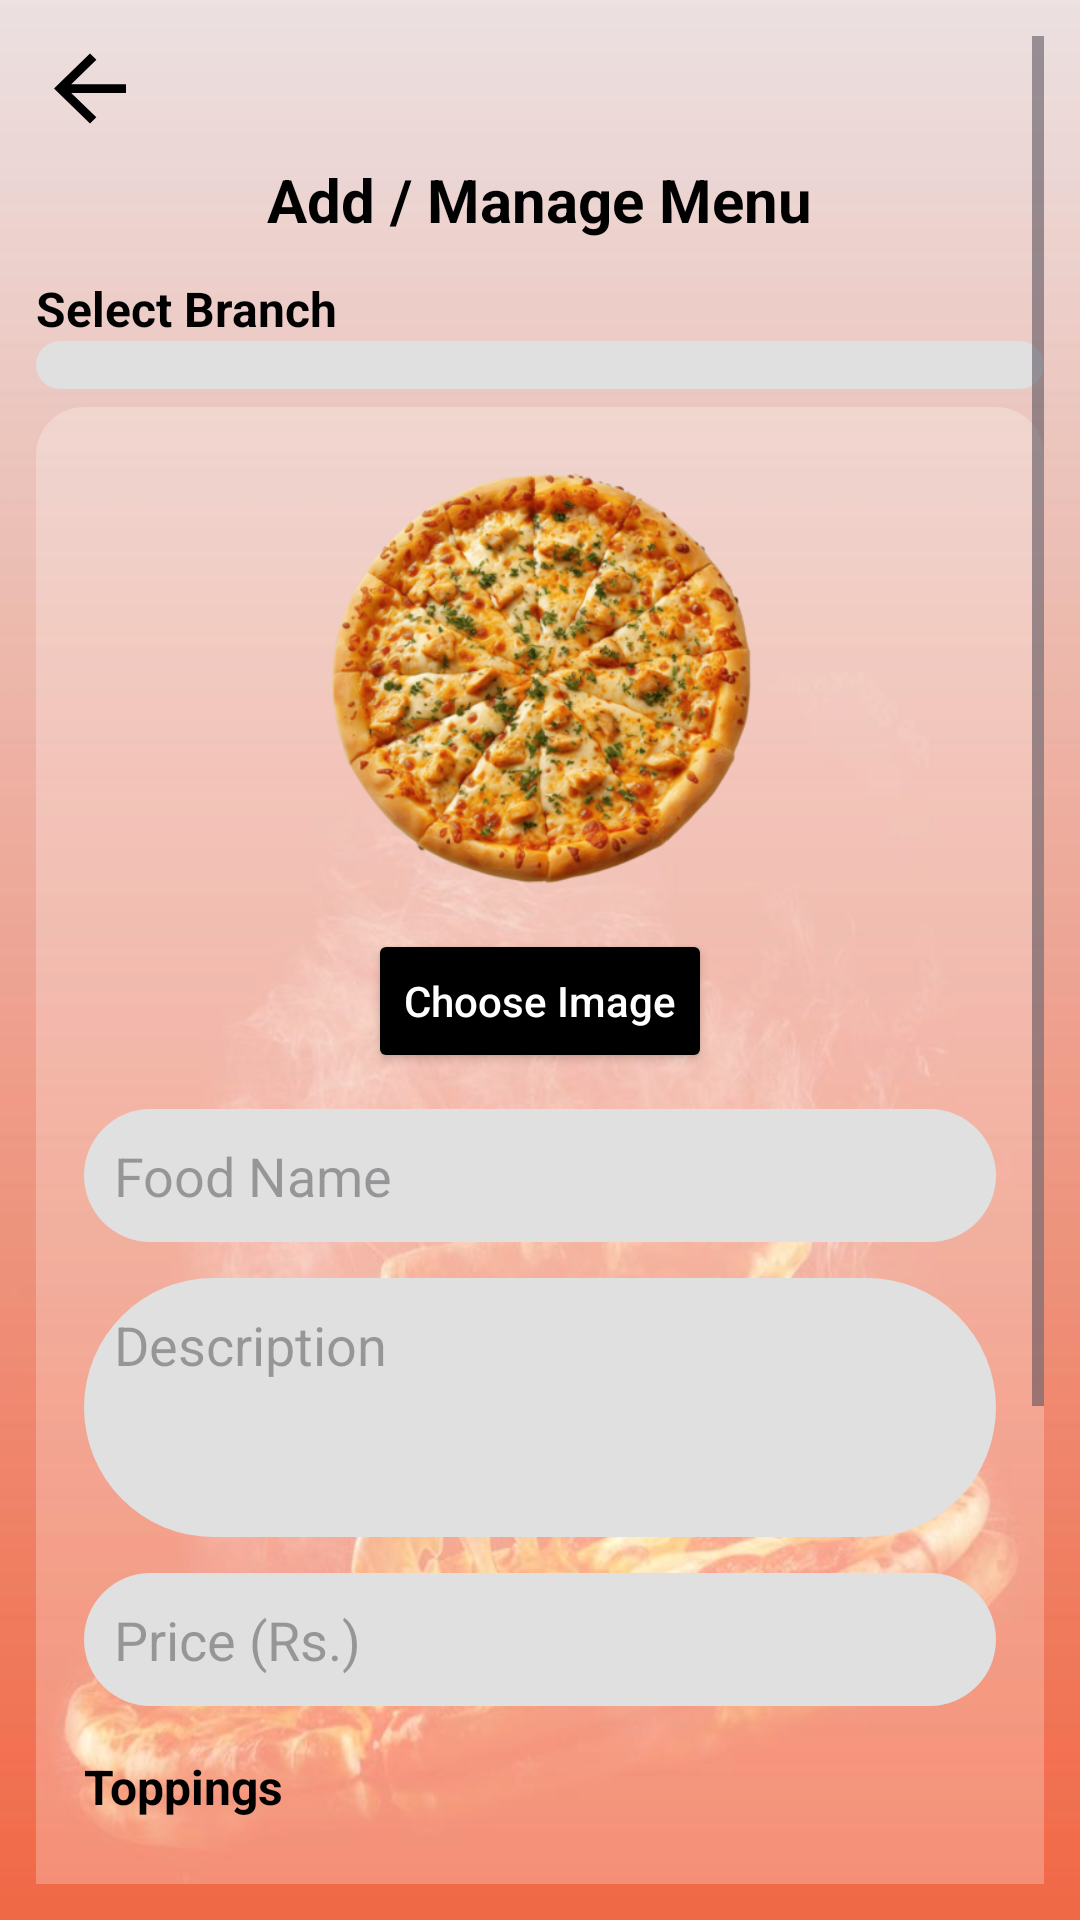

Icons on this 1080 × 1920 Android screen, each with the point to tap as point (x, y):
Back: point (90, 88)
